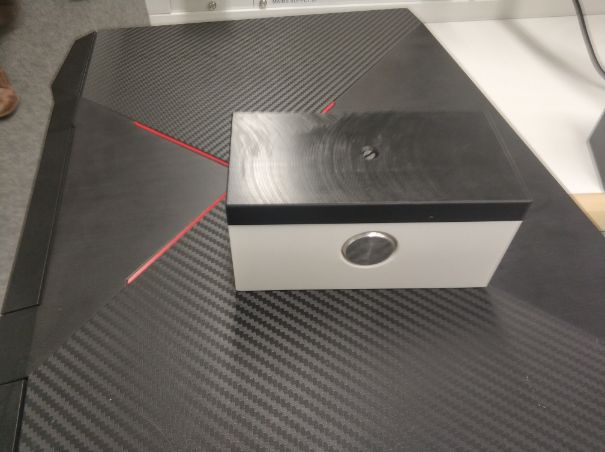black+white+silver: (222, 108, 536, 297)
